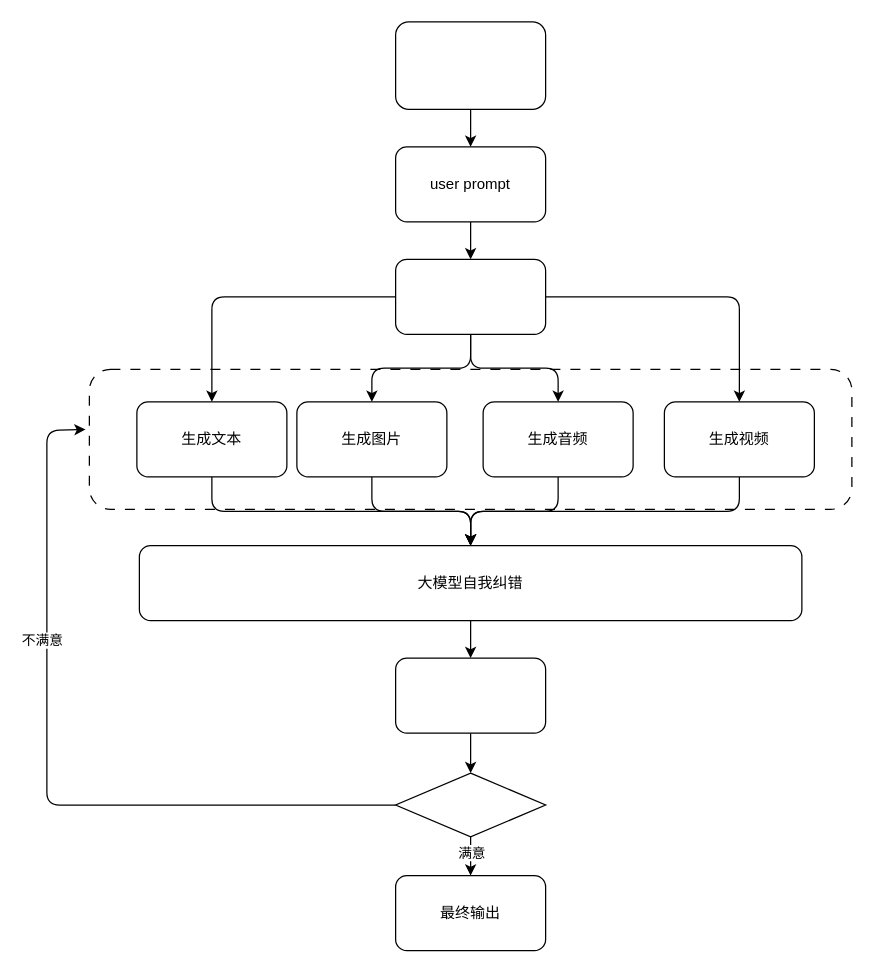
The diagram is 874 pixels wide and 973 high, and some of its shapes have lost their labels. Here are the shapes that lost their labels. From the top down, the centre of each, then its label:
[470,65]: Start
[470,296]: 意图分析-结构化解析 Router
[470,695]: 初次输出
[470,804]: 人工 review
